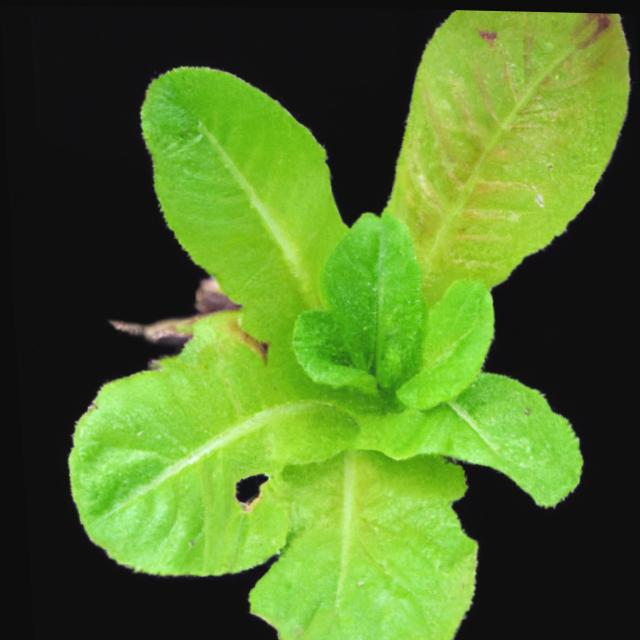-P: (33, 1, 640, 640)
